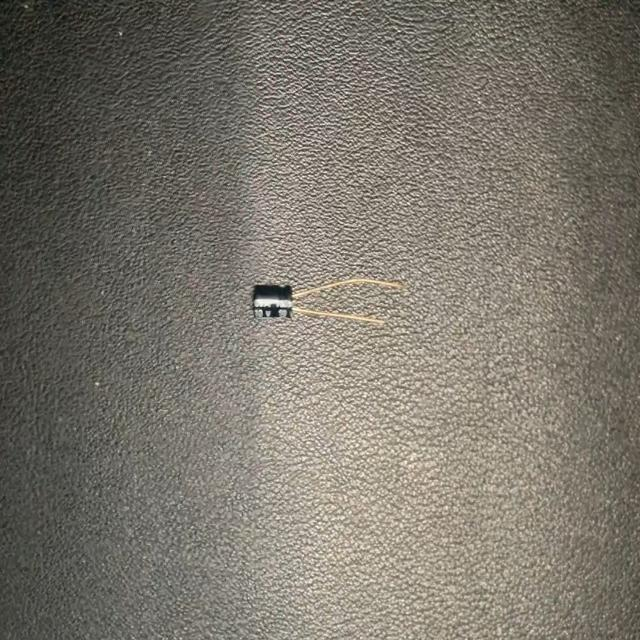capacitor: (248, 268, 403, 332)
